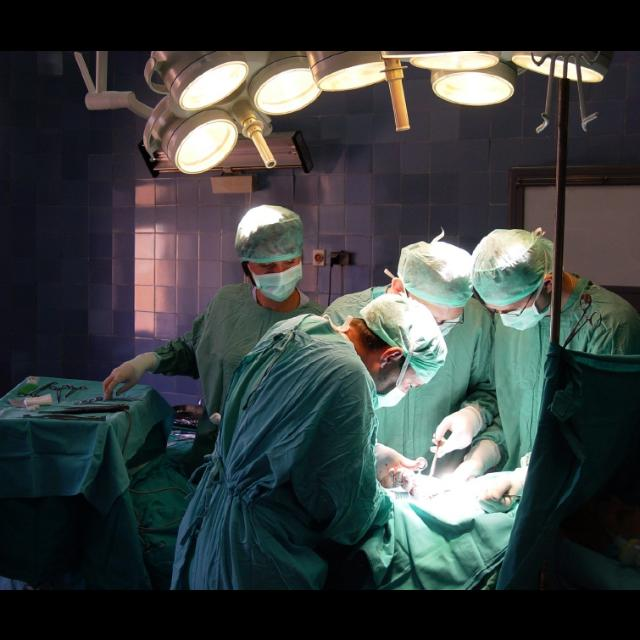head: (347, 293, 443, 407), (388, 236, 479, 338), (477, 228, 561, 332), (235, 203, 307, 303)
